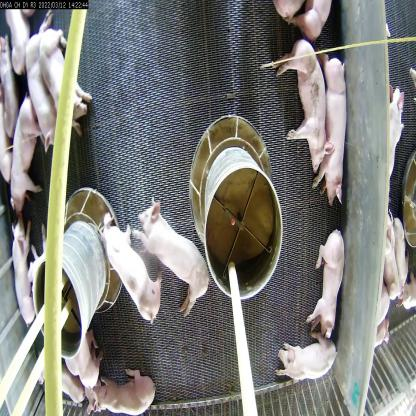Pig: (264, 38, 324, 181), (134, 198, 208, 312), (99, 212, 164, 329), (30, 17, 93, 123), (310, 50, 348, 208), (5, 95, 42, 217), (21, 44, 57, 166), (309, 229, 345, 343), (5, 220, 37, 340), (88, 365, 163, 415), (275, 330, 339, 386), (64, 324, 96, 392)
